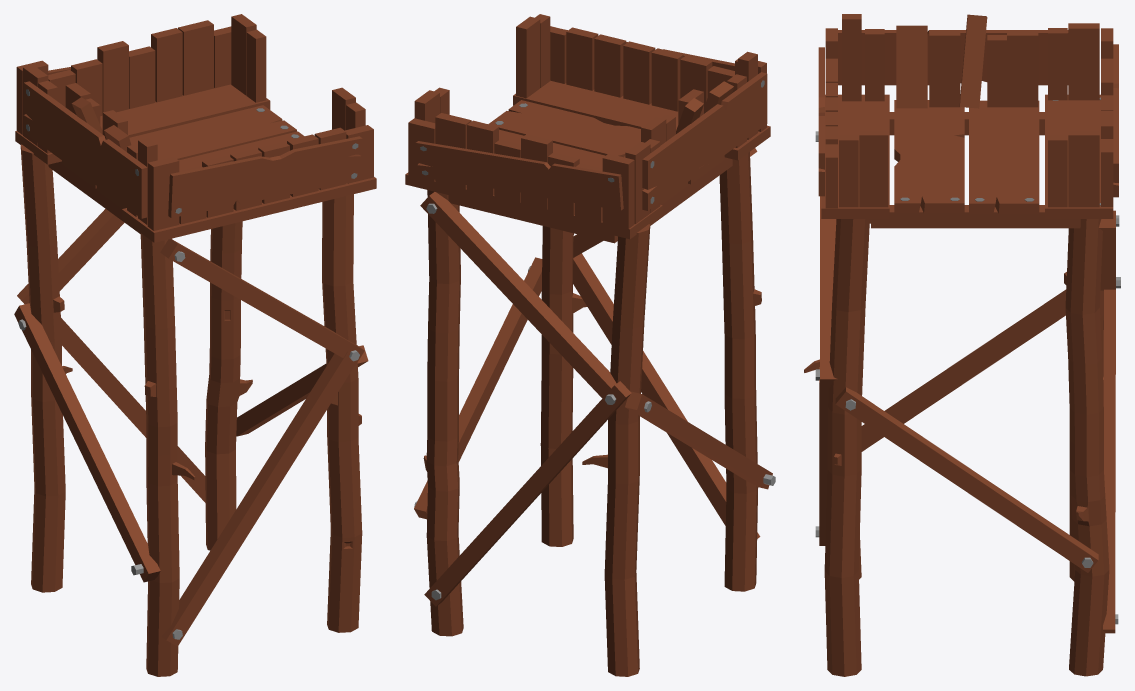
Rendered from Tower2.glb.
3 views of the same model, side by side, from view 1: azimuth 30°, elevation 25°; view 2: azimuth 150°, elevation 25°; view 3: azimuth 270°, elevation 25° (orthographic). The views are drawn at different scales.
Parts seen in each view (by area): view 1: Cylinder.003; view 2: Cylinder.003; view 3: Cylinder.003.
Boxes of the visible parts, x1=… form: Cylinder.003: x1=14, y1=14, x2=376, y2=676; Cylinder.003: x1=405, y1=14, x2=775, y2=676; Cylinder.003: x1=804, y1=14, x2=1120, y2=676.
Size of the model in its own units: 64.94 by 140 by 71.94.
